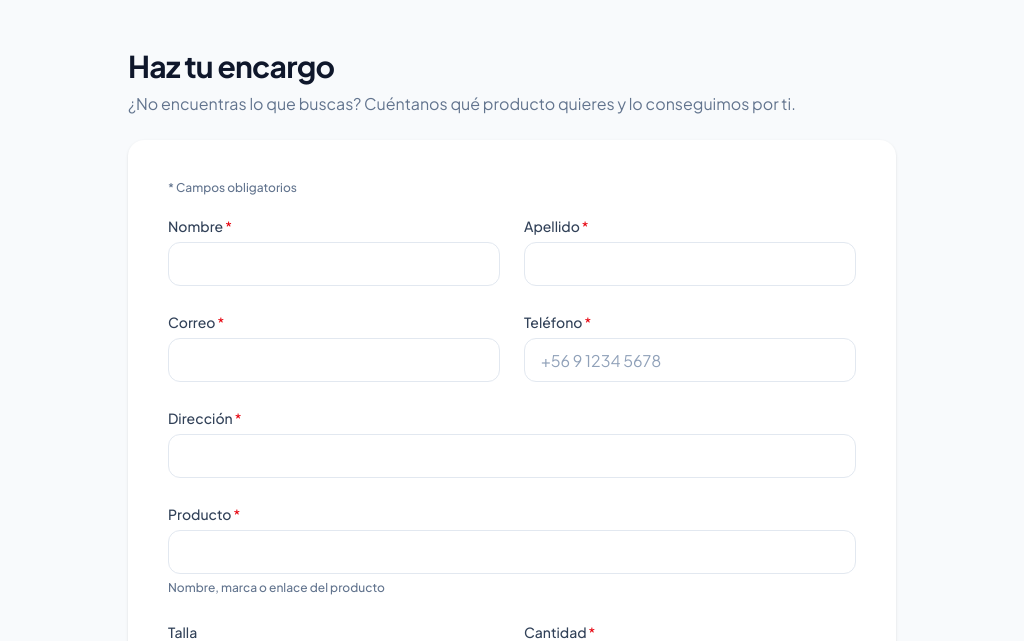
Test: EncargarPage › un correo o teléfono inválido muestra su mensaje al salir del campo y se revalida al escribir
The image size is (1024, 641).
Step 1. Type "ana@" into the field labelled "Correo" → (334, 360), box [168,338,500,382]
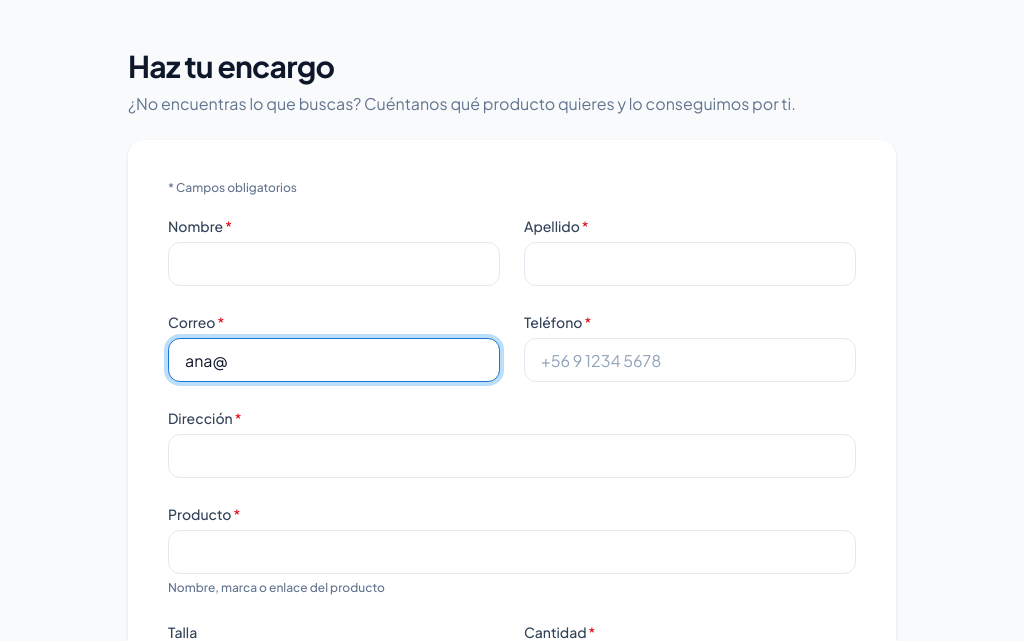
Expected: the text "Ingresa un correo válido" is not shown
Step 2. Press Tab
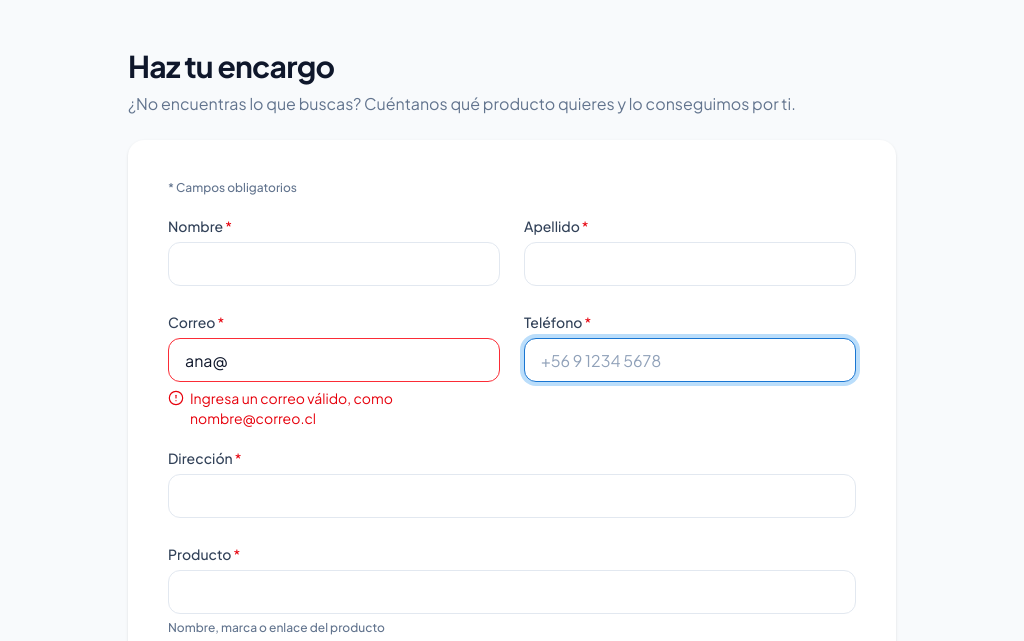
Step 3. Type "812345678" into the field labelled "Teléfono" → (690, 360), box [524,338,856,382]
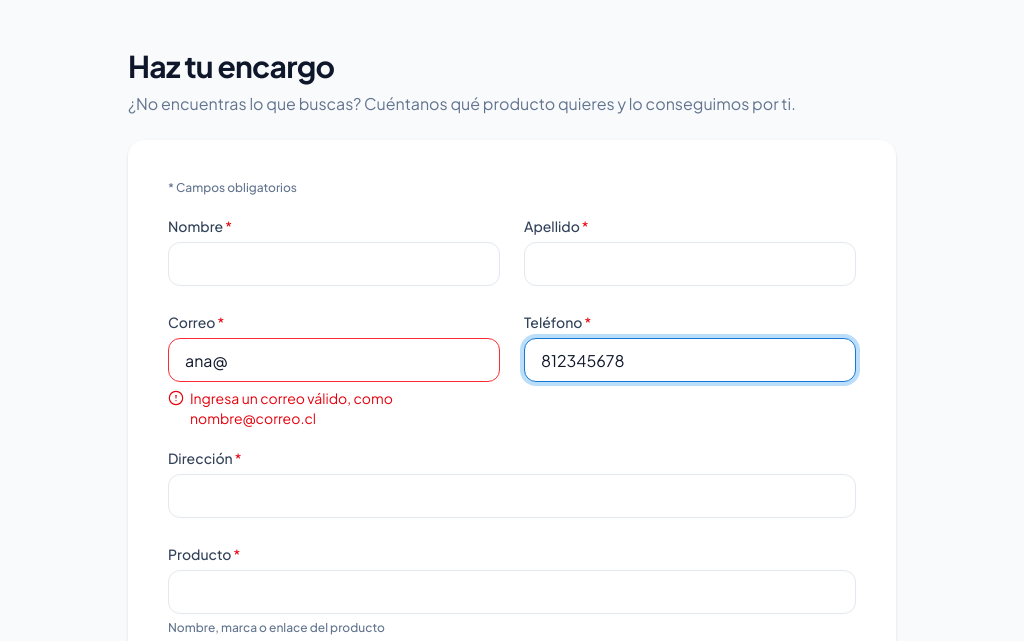
Step 4. Press Tab
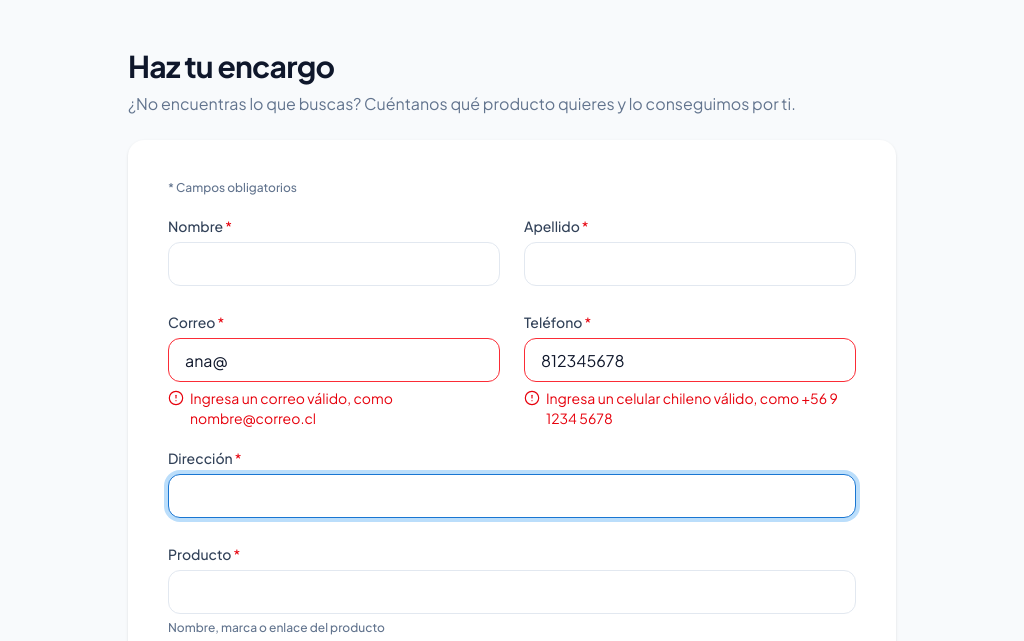
Step 5. Type "correo.cl" into the field labelled "Correo" → (334, 360), box [168,338,500,382]
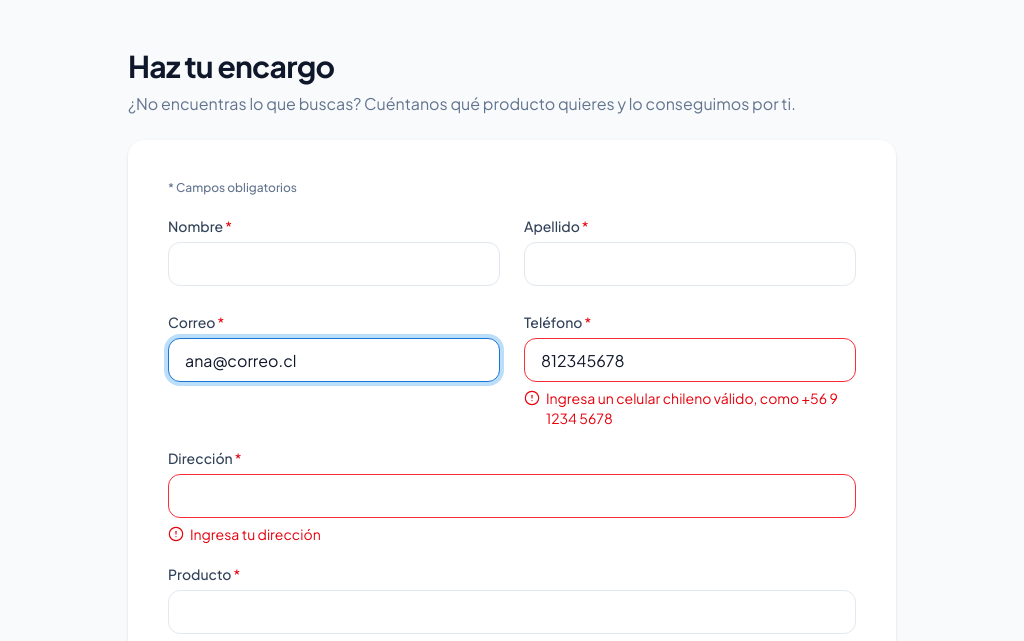
Expected: the text "Ingresa un correo válido" is gone
